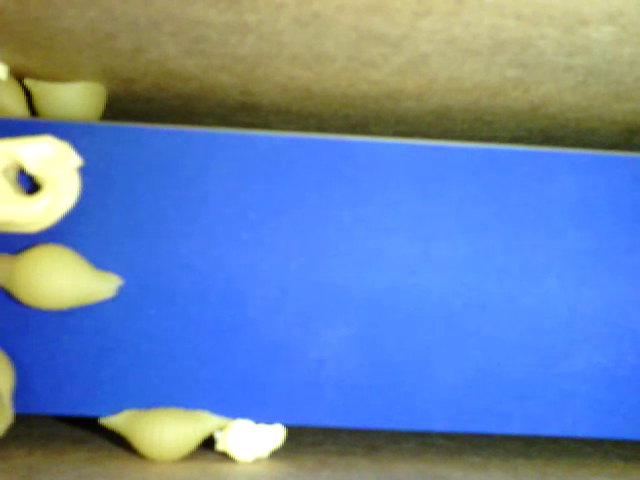shell: (3, 238, 121, 318), (98, 406, 230, 462), (27, 78, 107, 127)
tortellini: (1, 127, 85, 236)
